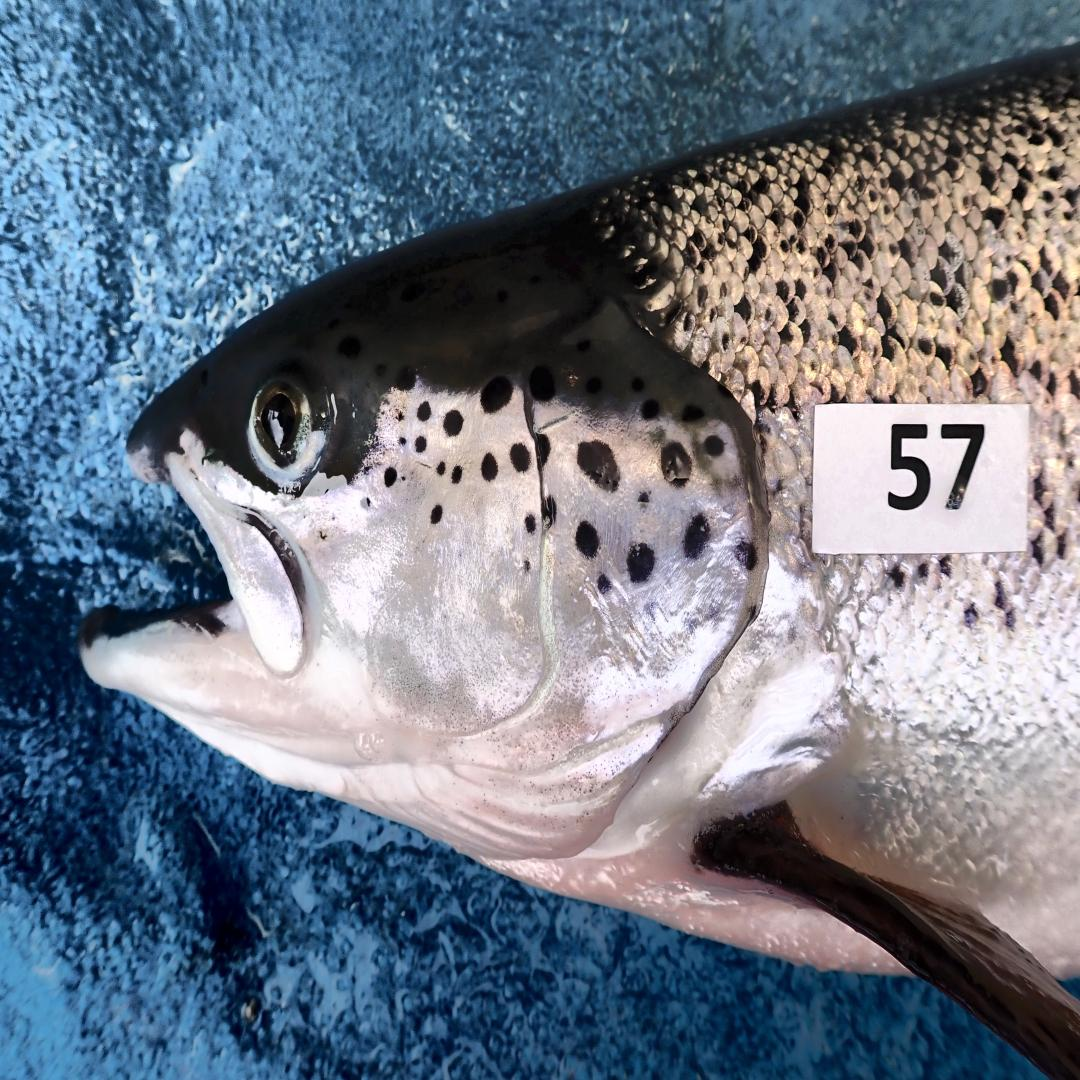spot: (578, 440, 620, 491), (661, 442, 691, 486), (683, 513, 710, 559), (480, 376, 513, 413), (627, 543, 654, 582), (529, 366, 555, 401), (575, 521, 599, 558), (736, 541, 756, 570), (510, 443, 530, 472), (443, 409, 464, 436), (536, 432, 550, 469), (703, 435, 725, 457), (481, 453, 498, 481), (542, 495, 556, 527), (681, 404, 704, 422), (641, 399, 659, 420), (417, 401, 431, 421), (597, 573, 611, 593), (384, 467, 397, 486), (414, 436, 427, 453), (451, 465, 463, 483), (431, 505, 443, 523), (525, 514, 536, 533), (638, 491, 650, 505), (436, 462, 445, 475), (523, 559, 530, 572), (361, 498, 370, 508), (396, 410, 404, 420), (398, 437, 406, 446)
